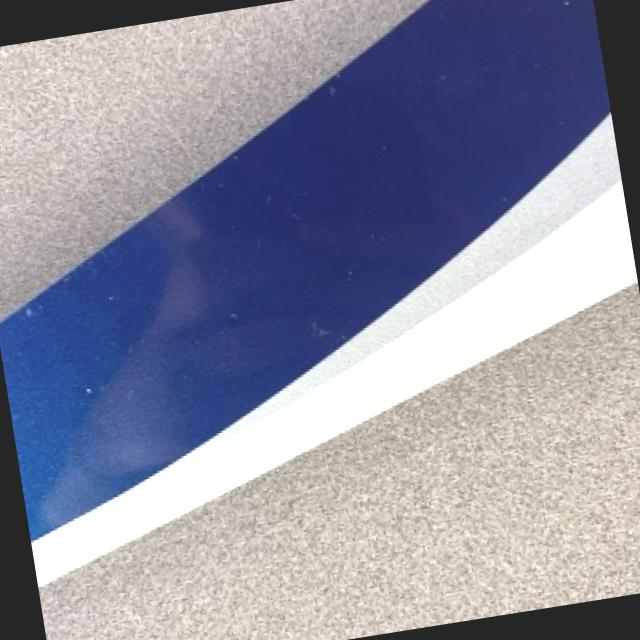healthy: (65, 132, 240, 259)
